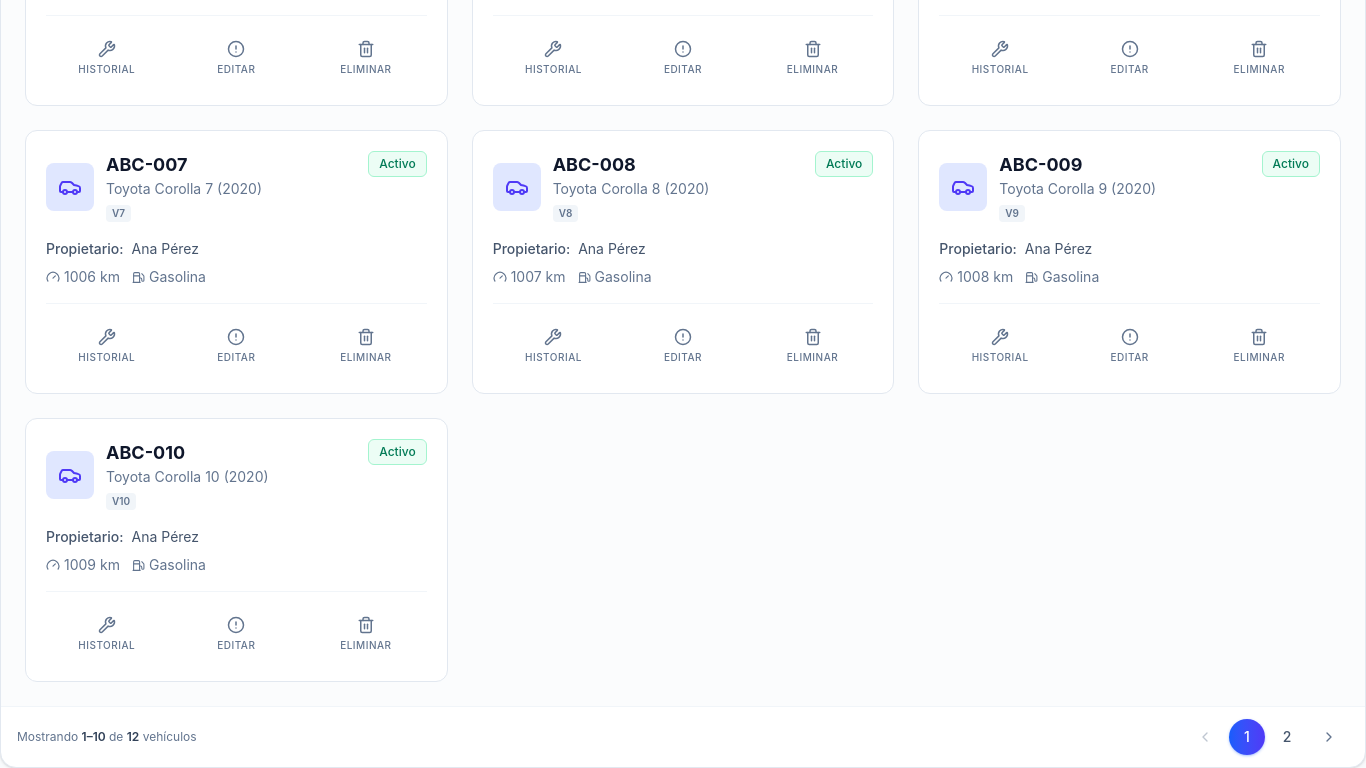
Test: Vehicles (vehículos) › pagina los vehículos (10 por página)
The image size is (1366, 768).
(page scrolled)
Expected: the heading "ABC-010" is shown, left=106, top=442, right=185, bottom=463
Expected: the text "ABC-011" is not shown
Note: Página 2: 011..012
Click the button "2": (1287, 737) left=1269, top=719, right=1305, bottom=755
(page scrolled)
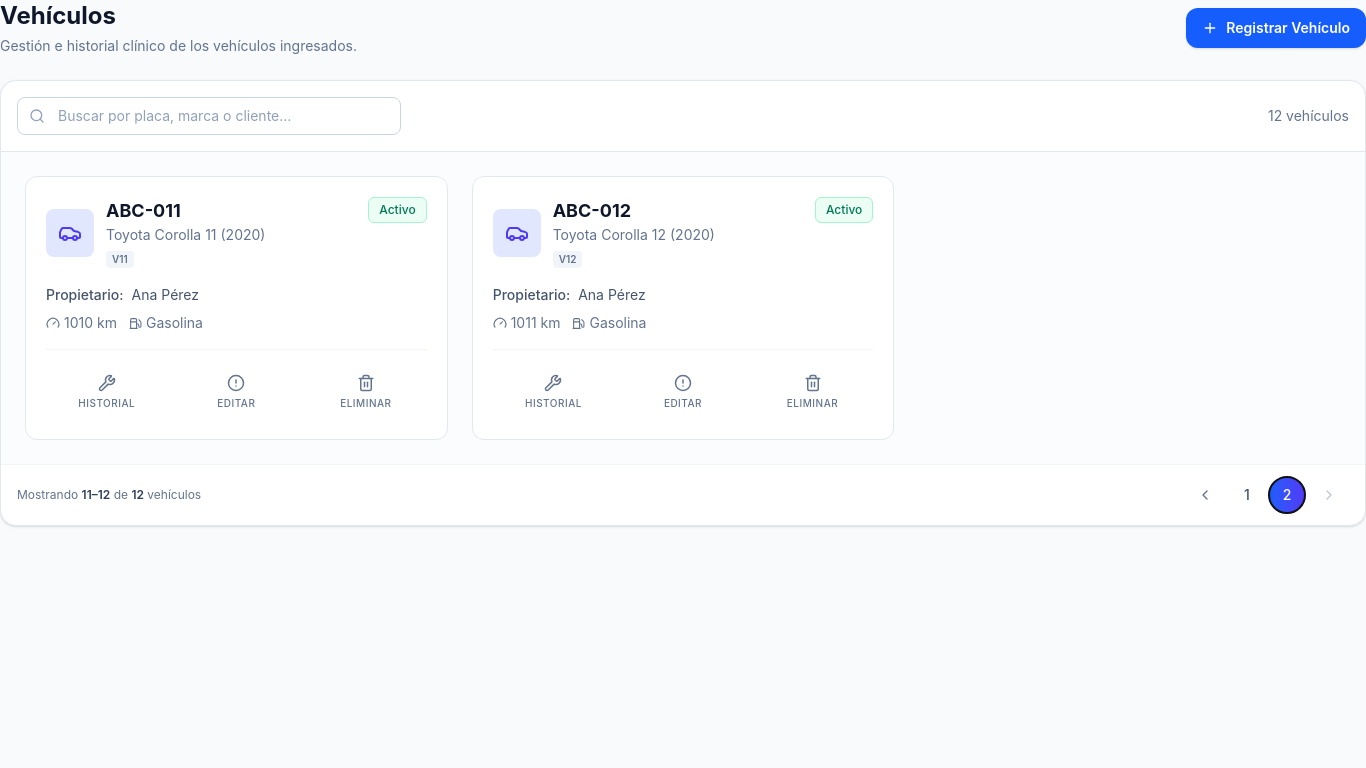
Expected: the heading "ABC-011" is shown, left=106, top=200, right=181, bottom=221
